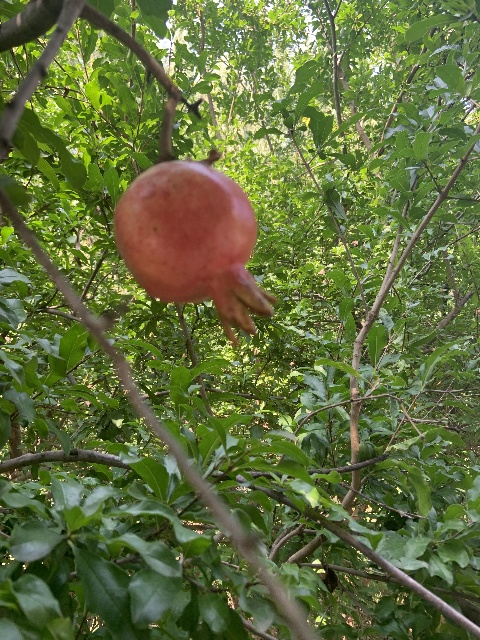ripe: (113, 160, 276, 344)
